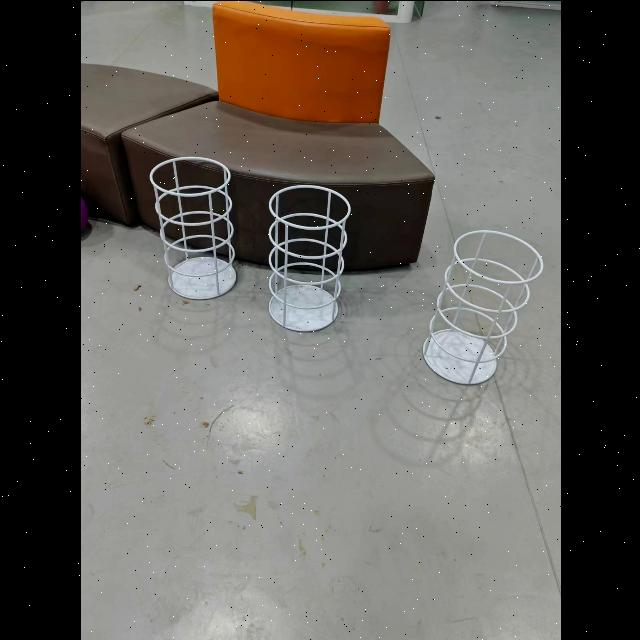P: (80, 184, 90, 240)
S: (423, 229, 542, 384), (149, 155, 235, 298), (268, 184, 349, 330)
